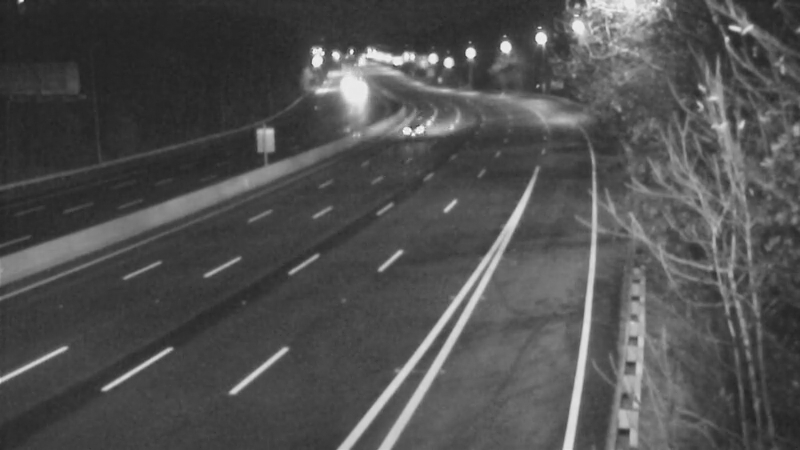vehicle: (394, 98, 444, 148), (326, 67, 376, 117)
